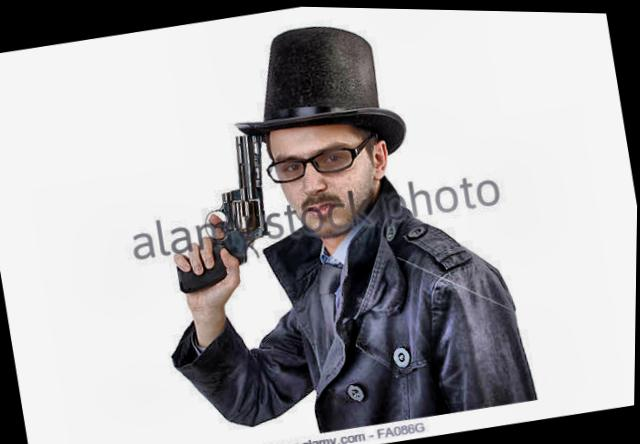pistol: (152, 128, 286, 296)
